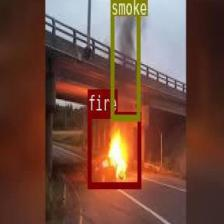fire: (88, 110, 140, 188)
smoke: (110, 0, 139, 120)
